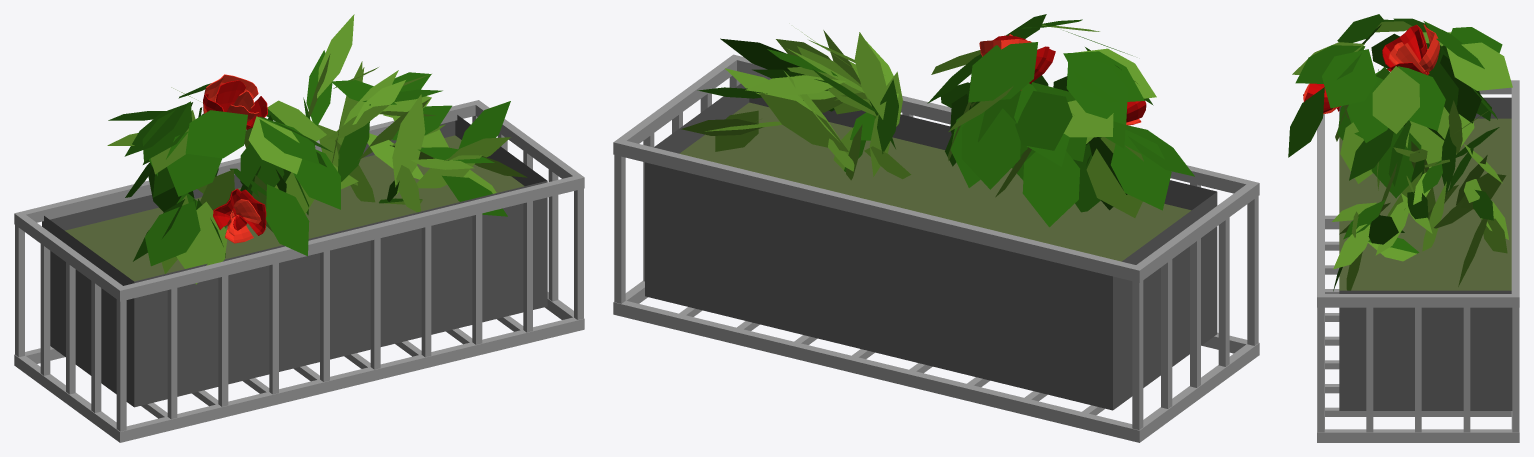
The model's file is WindowBox_Metal_Variety1.fbx.
3 views of the same model, side by side, from view 1: azimuth 30°, elevation 25°; view 2: azimuth 150°, elevation 25°; view 3: azimuth 270°, elevation 25° (orthographic). The views are drawn at different scales.
Parts seen in each view (by area): view 1: tree.013; view 2: tree.013; view 3: tree.013.
Boxes of the visible parts, x1=… form: tree.013: x1=14, y1=14, x2=584, y2=442; tree.013: x1=613, y1=14, x2=1259, y2=442; tree.013: x1=1288, y1=14, x2=1519, y2=442.
Bounding box in the file's own units: 1.57 × 0.9137 × 0.707.
